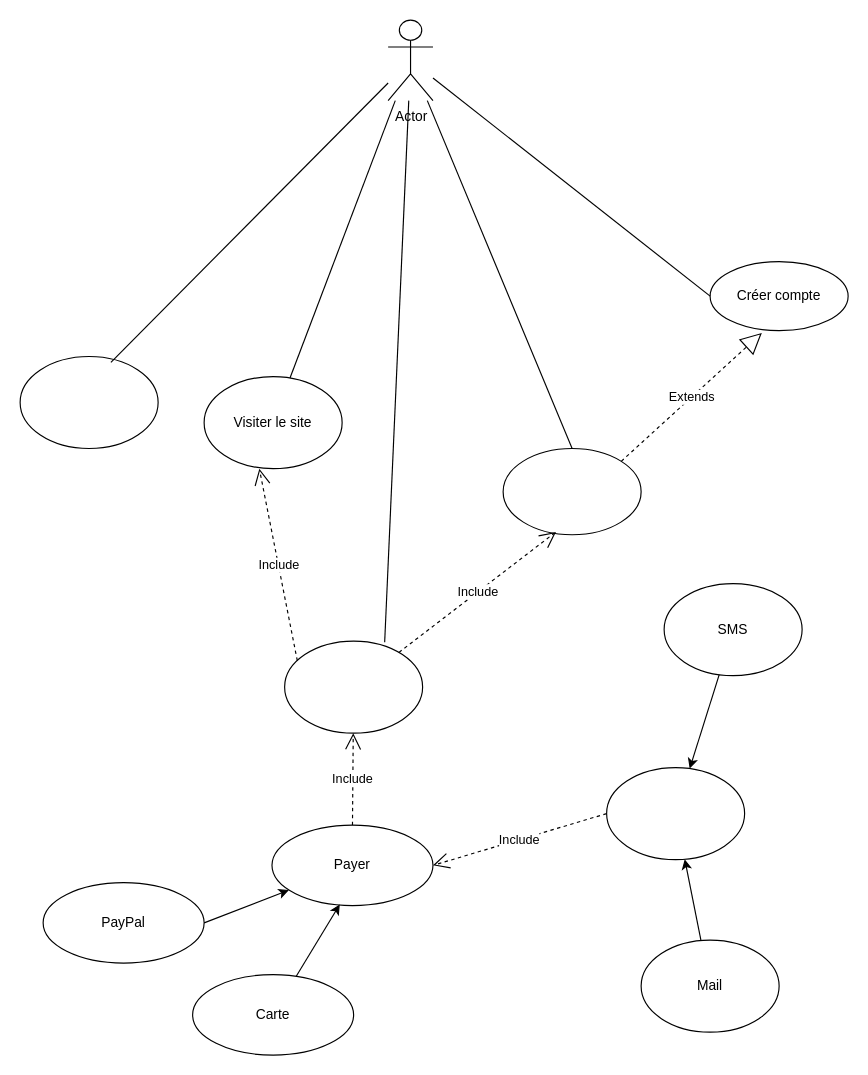
Some shapes in this 868 by 1075 pixel diagram are drawn without their labels. Here are the shapes that lost their labels. From the top down, the box of each, then its label:
(19, 355, 158, 448): Voir panier
(502, 447, 641, 535): Connexion
(283, 640, 423, 733): Passer commande
(605, 766, 745, 860): Confirmation Recapitulatif
